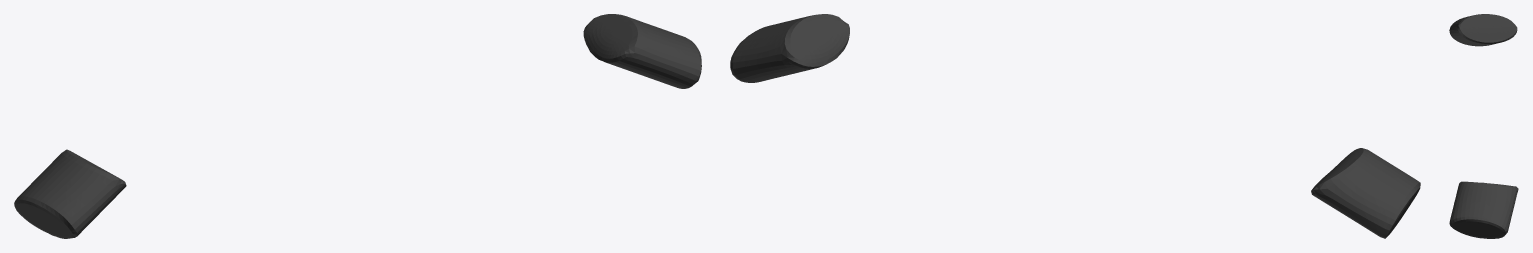
3 views of the same model, side by side, from view 1: azimuth 30°, elevation 25°; view 2: azimuth 150°, elevation 25°; view 3: azimuth 270°, elevation 25° (orthographic). The views are drawn at different scales.
Parts seen in each view (by area): view 1: CN7_low_CN7_low; view 2: CN7_low_CN7_low; view 3: CN7_low_CN7_low.
Boxes of the visible parts, x1,y1,x2,y2 form: CN7_low_CN7_low: (14, 14, 701, 238); CN7_low_CN7_low: (730, 14, 1420, 238); CN7_low_CN7_low: (1449, 14, 1518, 238).
Bounding box in the file's own units: 17.61 × 1.76 × 2.51.
Materials: 1 (1 with a texture image).
